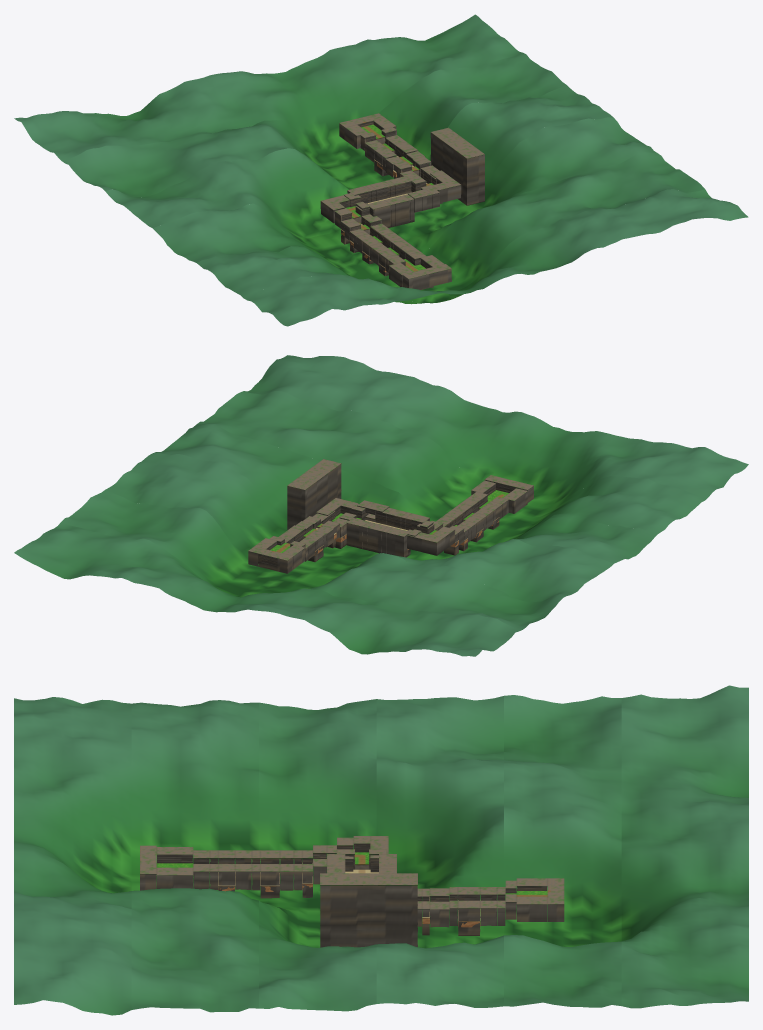
The model's file is monsoon_run_terrain.glb.
3 views of the same model, one above another, from view 1: azimuth 30°, elevation 25°; view 2: azimuth 150°, elevation 25°; view 3: azimuth 270°, elevation 25° (orthographic). The views are drawn at different scales.
Visible parts, largest first — view 1: backdrop_5, backdrop_4, backdrop_3, backdrop_1, backdrop_2, backdrop_0, terrain_G, terrain_E, terrain_I, terrain_A, terrain_D, terrain_F (+3 smaller); view 2: backdrop_0, backdrop_1, backdrop_5, backdrop_4, backdrop_3, backdrop_2, terrain_G, terrain_E, terrain_I, terrain_F, terrain_A, terrain_B (+3 smaller); view 3: backdrop_5, backdrop_0, backdrop_1, backdrop_4, backdrop_3, backdrop_2, terrain_G, terrain_I, terrain_B, terrain_A, terrain_H, terrain_E (+2 smaller).
Boxes of the visible parts, x1,y1,x2,y2 form: backdrop_5: (14, 14, 522, 160); backdrop_4: (62, 52, 566, 197); backdrop_3: (105, 85, 613, 237); backdrop_1: (197, 152, 704, 302); backdrop_2: (153, 117, 657, 269); backdrop_0: (244, 189, 748, 326); terrain_G: (385, 127, 484, 205); terrain_E: (320, 181, 410, 227); terrain_I: (339, 113, 399, 157); terrain_A: (389, 255, 451, 289); terrain_D: (334, 203, 388, 252); terrain_F: (384, 176, 439, 222); backdrop_0: (244, 355, 748, 504); backdrop_1: (196, 391, 704, 540); backdrop_5: (14, 521, 521, 656); backdrop_4: (62, 489, 566, 629); backdrop_3: (105, 452, 613, 601); backdrop_2: (153, 423, 657, 563); terrain_G: (287, 459, 357, 548); terrain_E: (367, 508, 449, 557); terrain_I: (248, 536, 308, 573); terrain_F: (339, 500, 392, 549); terrain_A: (471, 475, 533, 513); terrain_B: (455, 492, 508, 529); backdrop_5: (621, 685, 748, 1008); backdrop_0: (14, 697, 131, 1015); backdrop_1: (131, 700, 258, 1012); backdrop_4: (504, 695, 621, 1007); backdrop_3: (376, 696, 503, 1007); backdrop_2: (259, 699, 376, 1011); terrain_G: (320, 873, 449, 947); terrain_I: (497, 878, 564, 925); terrain_B: (193, 850, 251, 891); terrain_A: (140, 845, 193, 890); terrain_H: (449, 887, 496, 935); terrain_E: (327, 836, 396, 873).
Bounding box in the file's own units: 511 × 67 × 525.
